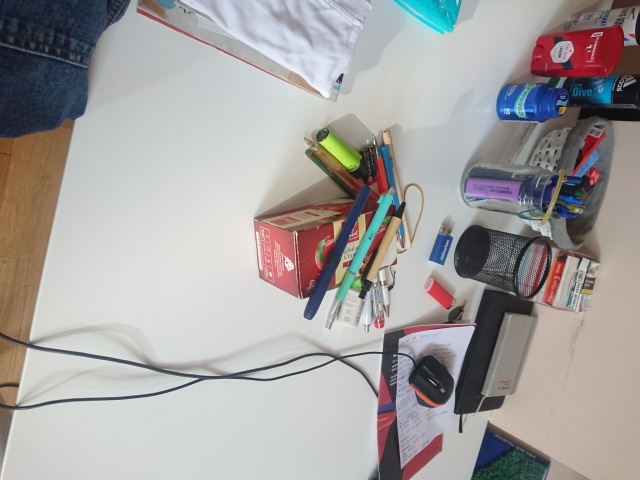Franck Apple Cinnamon Tea 60g: (251, 193, 398, 301)
